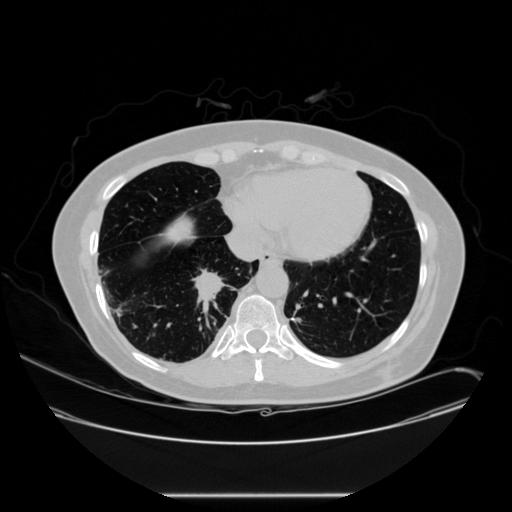nodule: (192, 268, 225, 301)
